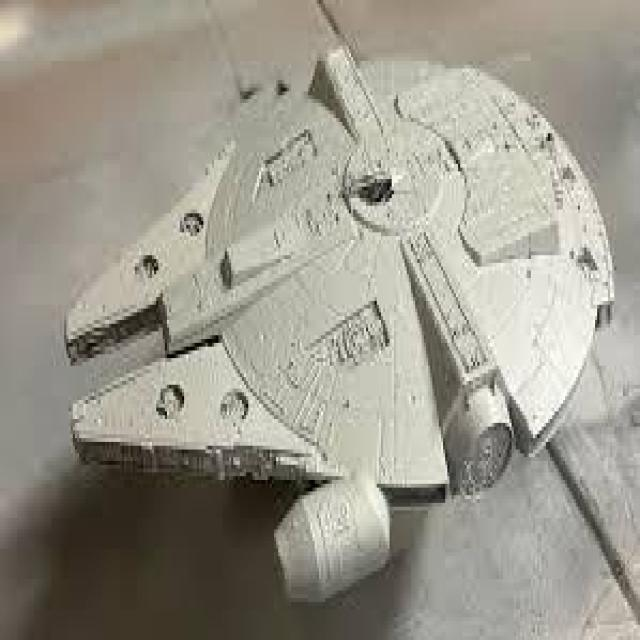Without deffect: (54, 21, 619, 618)
